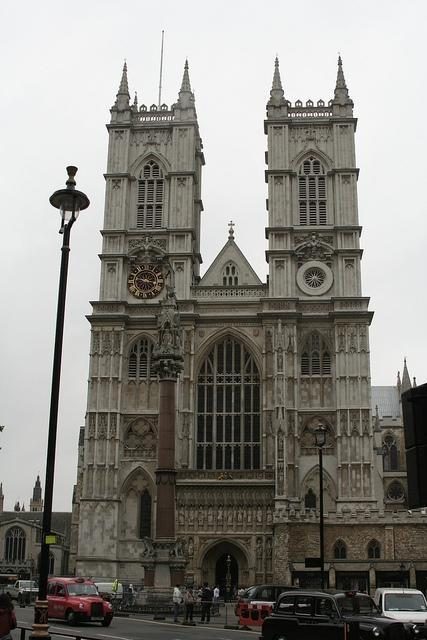car: (258, 588, 420, 639), (34, 577, 115, 627), (235, 585, 302, 619)
truck: (258, 587, 360, 640), (375, 588, 426, 632), (4, 580, 39, 604)
